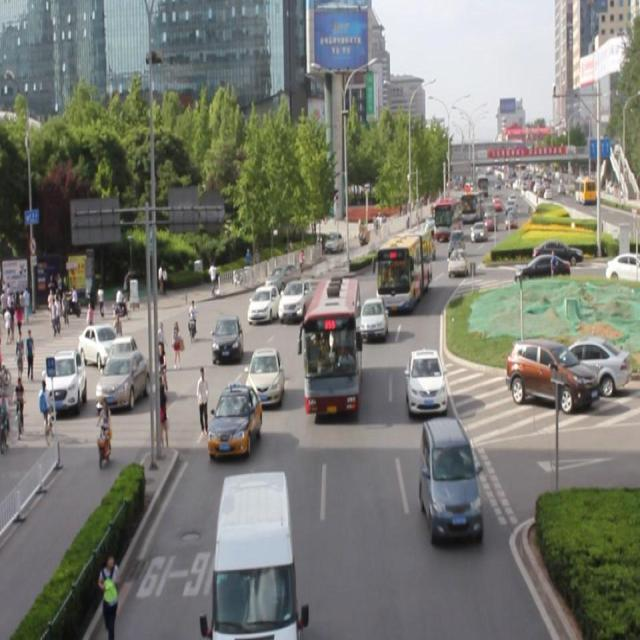car: (421, 417, 480, 536), (208, 383, 261, 455), (405, 350, 445, 412), (246, 345, 282, 406), (318, 290, 359, 332), (210, 314, 242, 364), (278, 280, 312, 320), (246, 284, 281, 322), (359, 298, 388, 342), (447, 244, 466, 276)
truck: (208, 470, 294, 640)
van: (304, 276, 359, 411), (378, 228, 430, 312)
